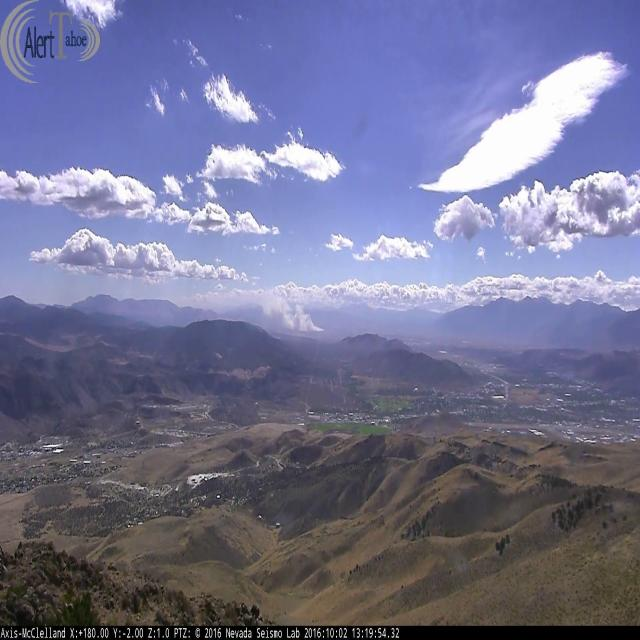smoke: (262, 295, 324, 333)
